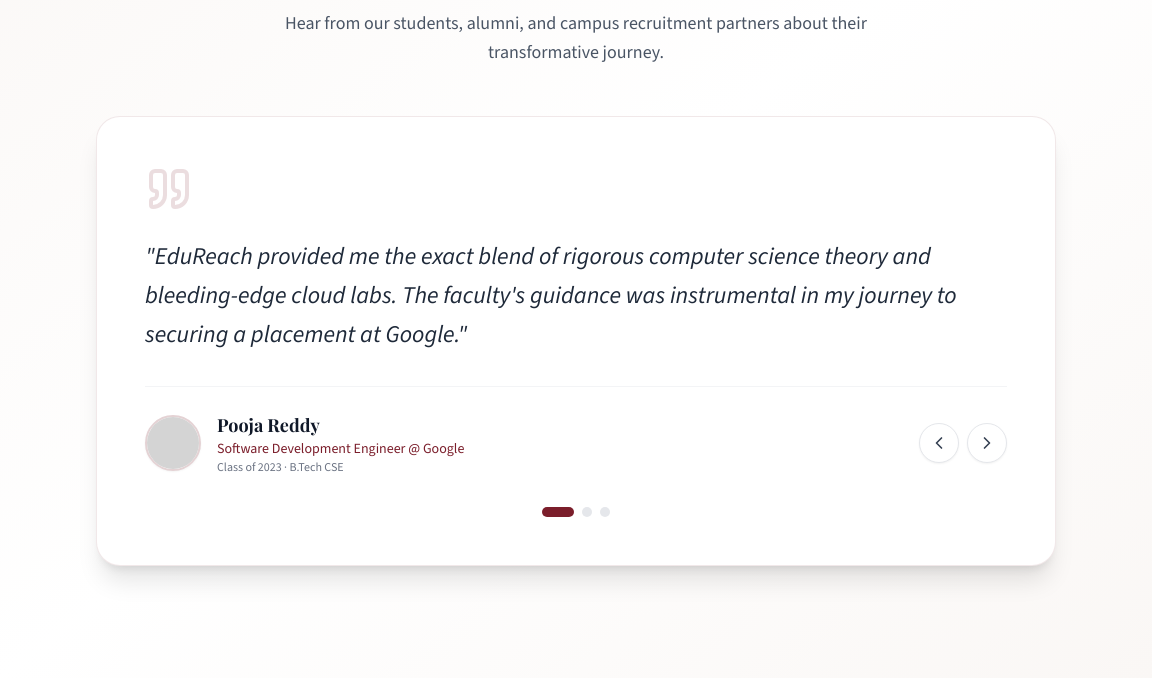
Test: QuotesSection › navigates directly when dot indicator is clicked
The width and height of the screenshot is (1152, 678).
(page scrolled)
Click the button named "Go to slide 3": point(605, 512) x1=600 y1=506 x2=610 y2=516
Wait 150 ms
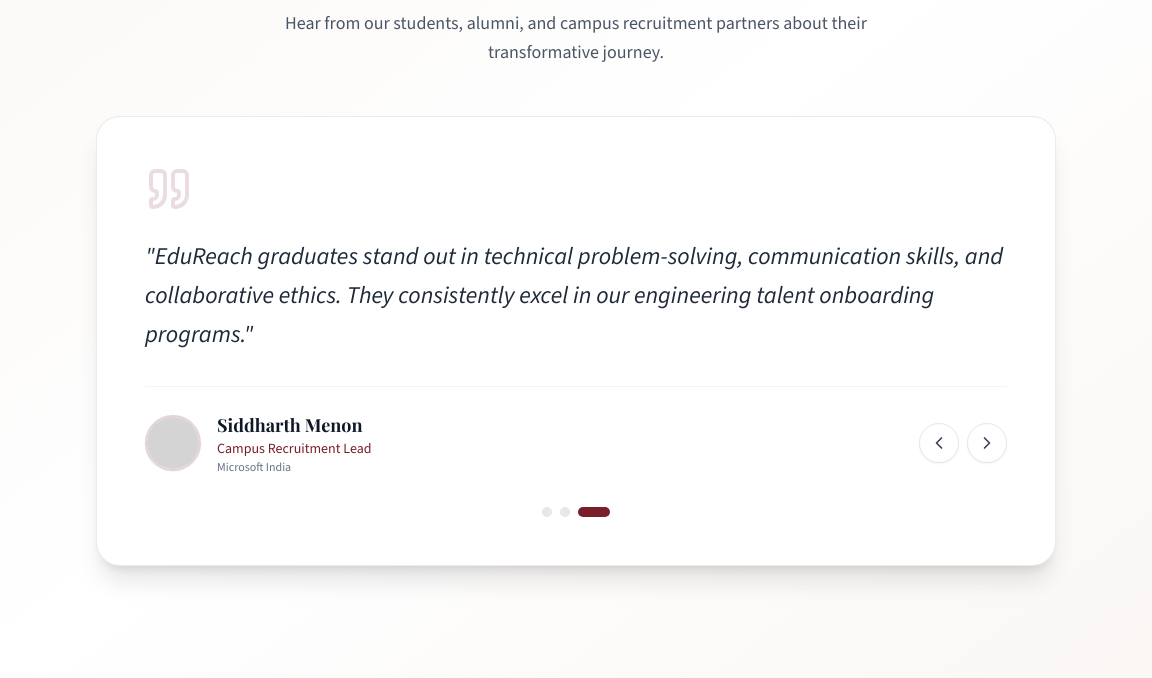
Result: the heading "Siddharth Menon" is shown at x1=217 y1=410 x2=372 y2=438
